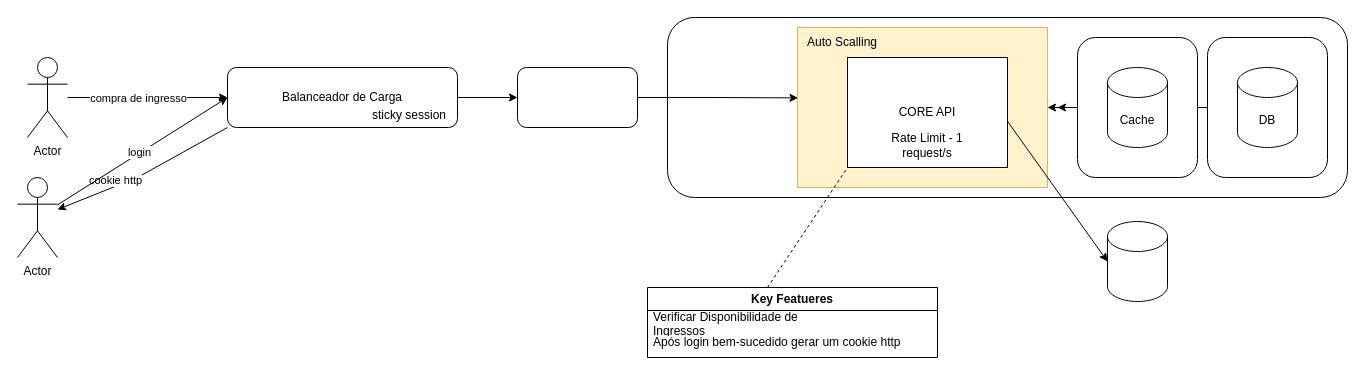
Image size: 1365x375. Some labels were removed from this diagram. Here are the shapes that lost their labels. From the top down, the centre of each, then its label:
At [577,97]: "Firewalls".
At [1137,261]: "Arquivos Estáticos".
